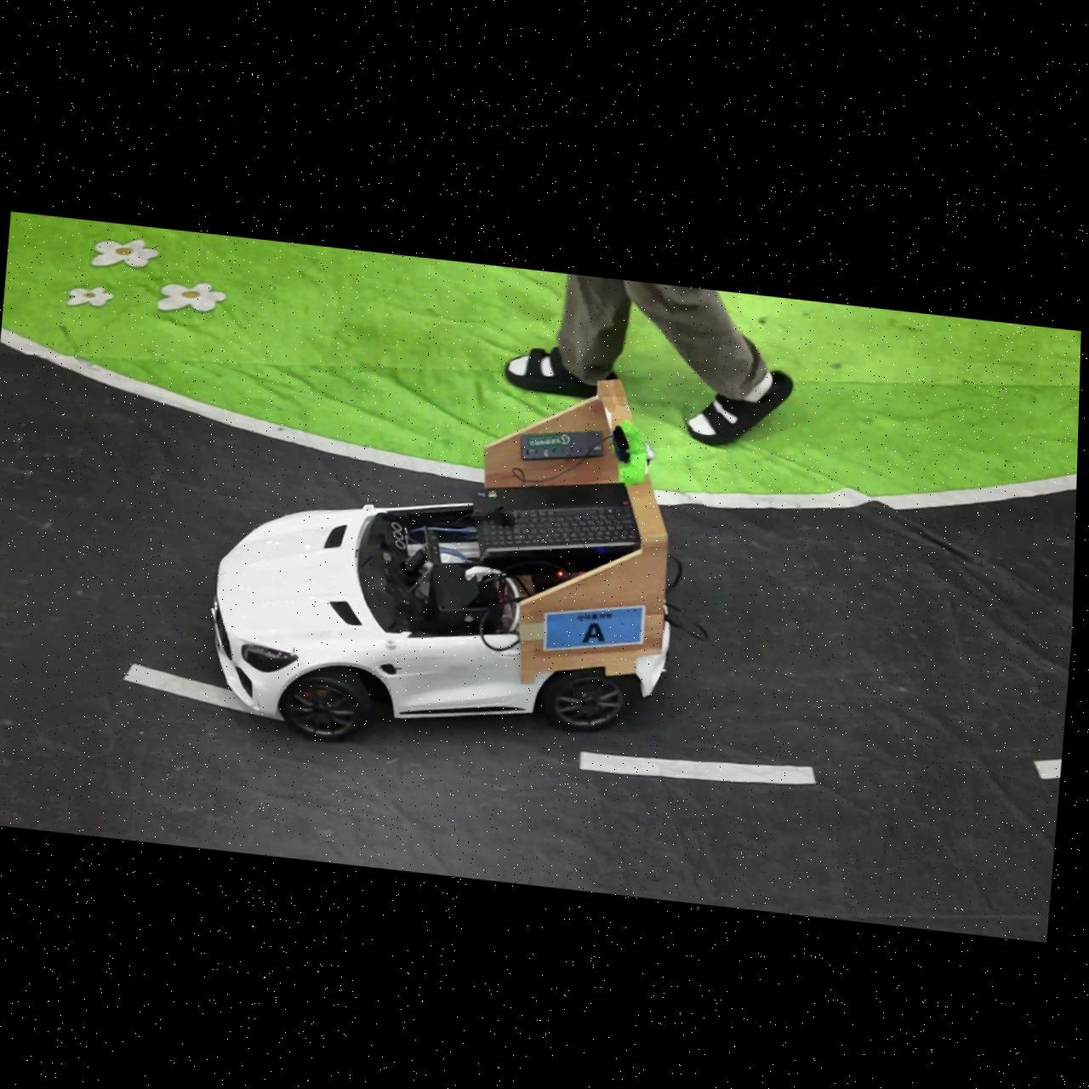broken_line: (122, 663, 284, 721), (578, 751, 817, 785), (1032, 758, 1061, 779)
